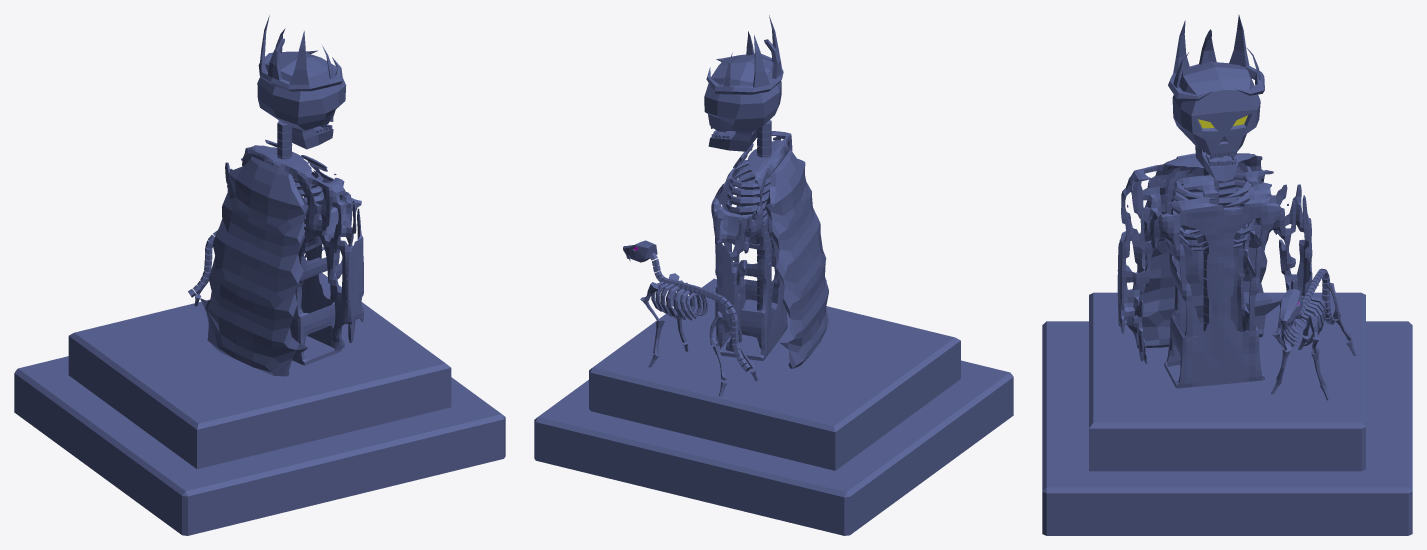
File: statua.fbx
3 views of the same model, side by side, from view 1: azimuth 30°, elevation 25°; view 2: azimuth 150°, elevation 25°; view 3: azimuth 270°, elevation 25° (orthographic). The views are drawn at different scales.
Visible parts, largest first — view 1: pedana1, lich, doggo; view 2: pedana1, lich, doggo; view 3: pedana1, lich, doggo.
Boxes of the visible parts, left/top/right/bottom form: pedana1: left=14, top=273, right=505, bottom=535; lich: left=200, top=15, right=363, bottom=376; doggo: left=188, top=198, right=361, bottom=324; pedana1: left=534, top=278, right=1013, bottom=535; lich: left=704, top=15, right=828, bottom=368; doggo: left=623, top=240, right=758, bottom=396; pedana1: left=1042, top=292, right=1412, bottom=535; lich: left=1117, top=15, right=1312, bottom=388; doggo: left=1271, top=268, right=1357, bottom=400.
Size of the model in its own units: 2.36 by 2.88 by 2.17.
